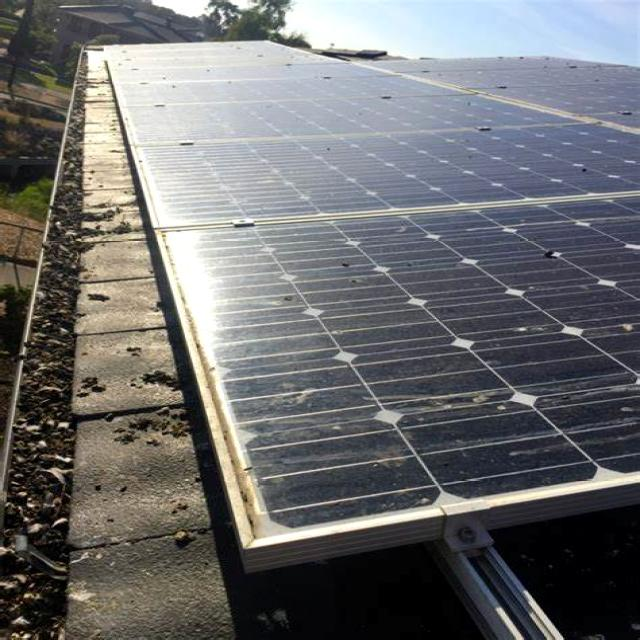bird: (323, 242, 388, 298), (262, 280, 313, 322), (518, 240, 574, 272)
